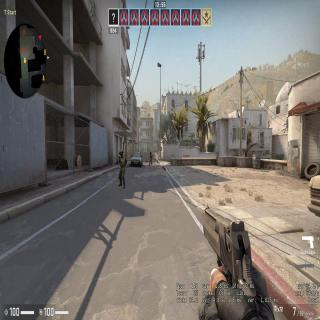CT-Body: (117, 148, 127, 189), (149, 150, 153, 166)
CT-Head: (119, 149, 123, 156), (150, 151, 151, 153)
